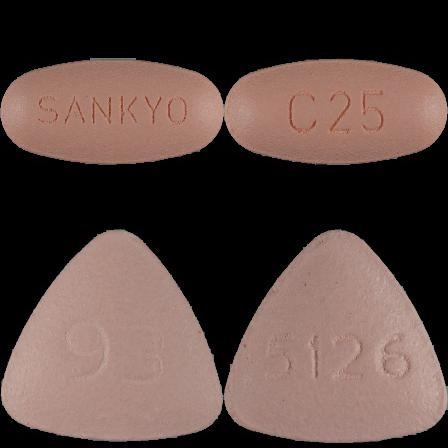54868-5078: (0, 0, 224, 224)
